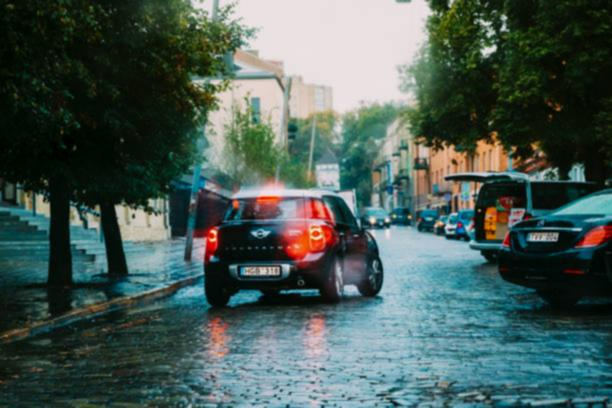Mercedes: (532, 217, 553, 231)
mini: (246, 222, 273, 247)
